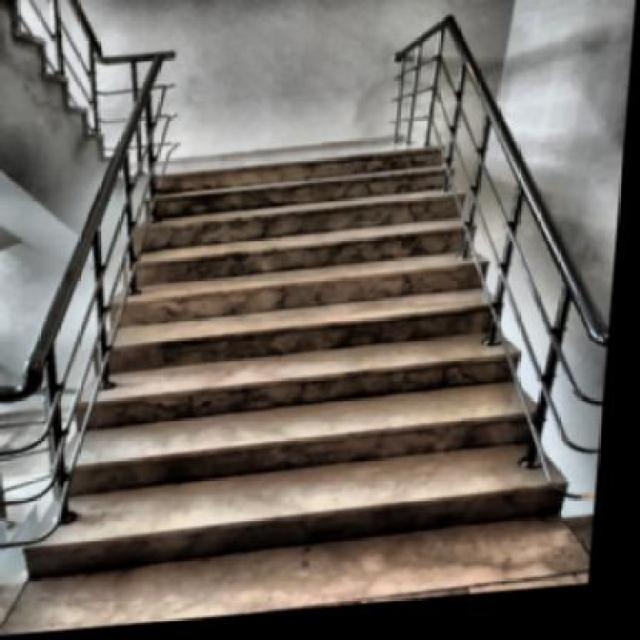stair: (70, 148, 604, 568)
